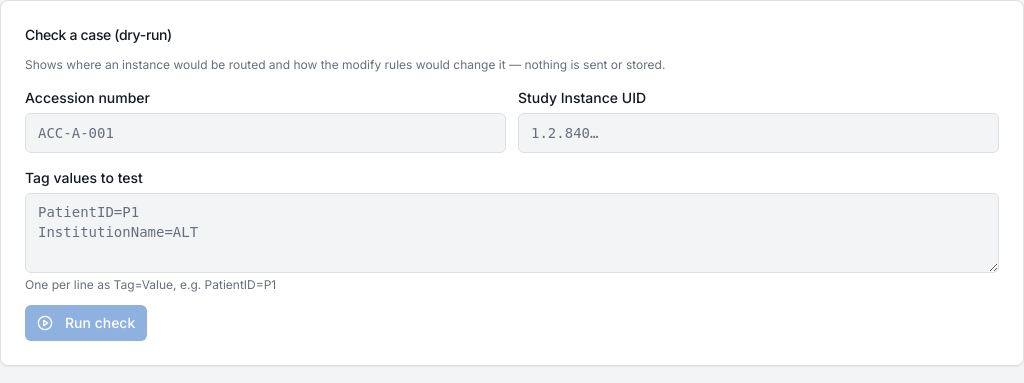
Test: CaseCheckPanel › stays disabled until a case is entered
Expected: the button "Run check" is disabled, x1=25 y1=305 x2=147 y2=341
Type "ACC-1" into the field labelled "Accession number". click: coordinates (266, 133)
box: x1=25 y1=113 x2=506 y2=153
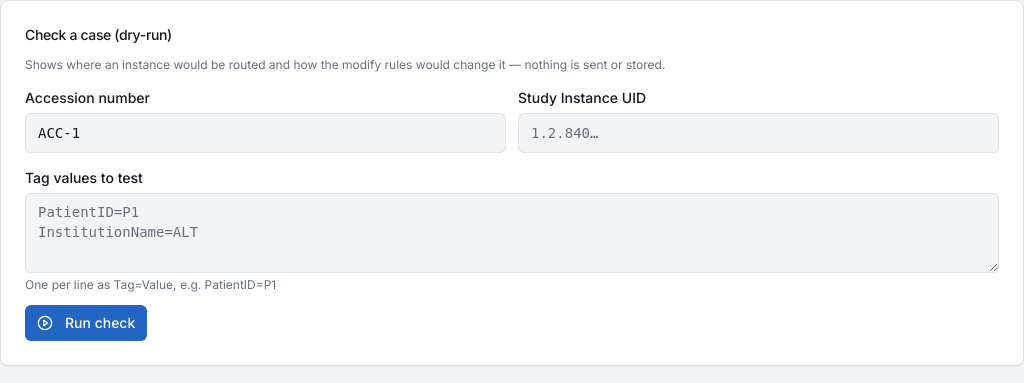
Now the button "Run check" is enabled, box x1=25 y1=305 x2=147 y2=341
